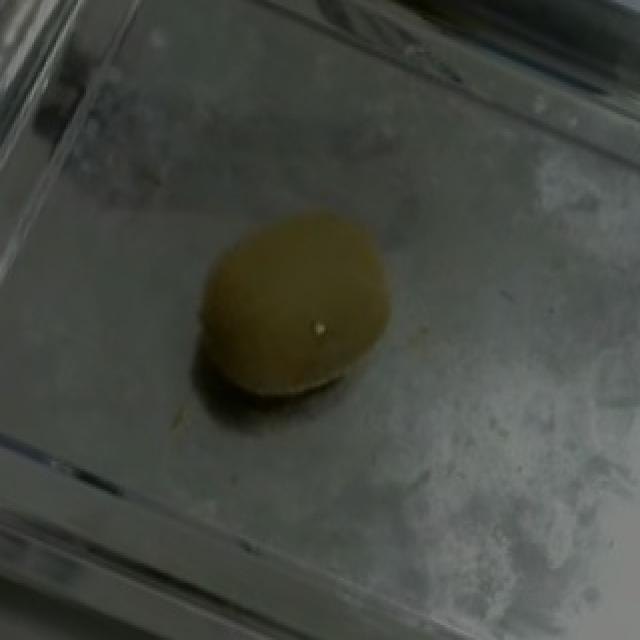Fruit: (152, 166, 436, 447)
